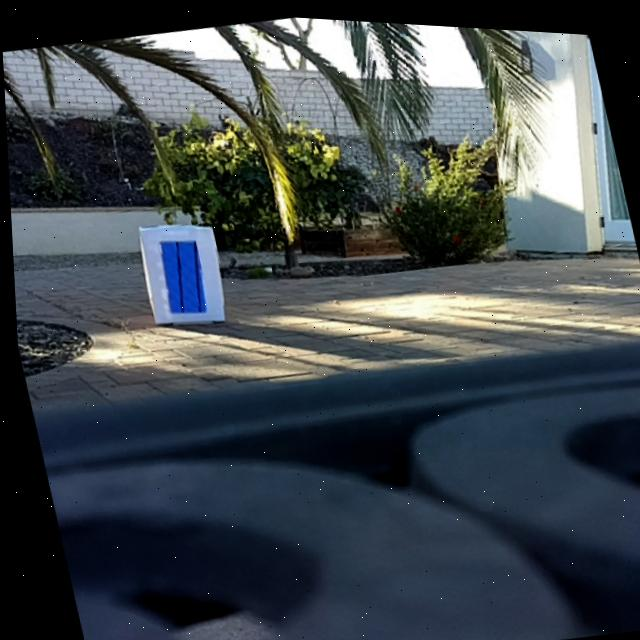led: (153, 234, 207, 315)
